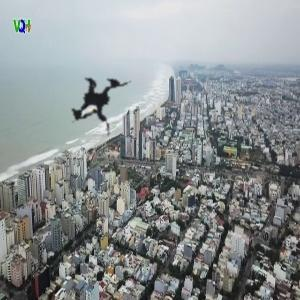drone: (31, 33, 160, 162)
